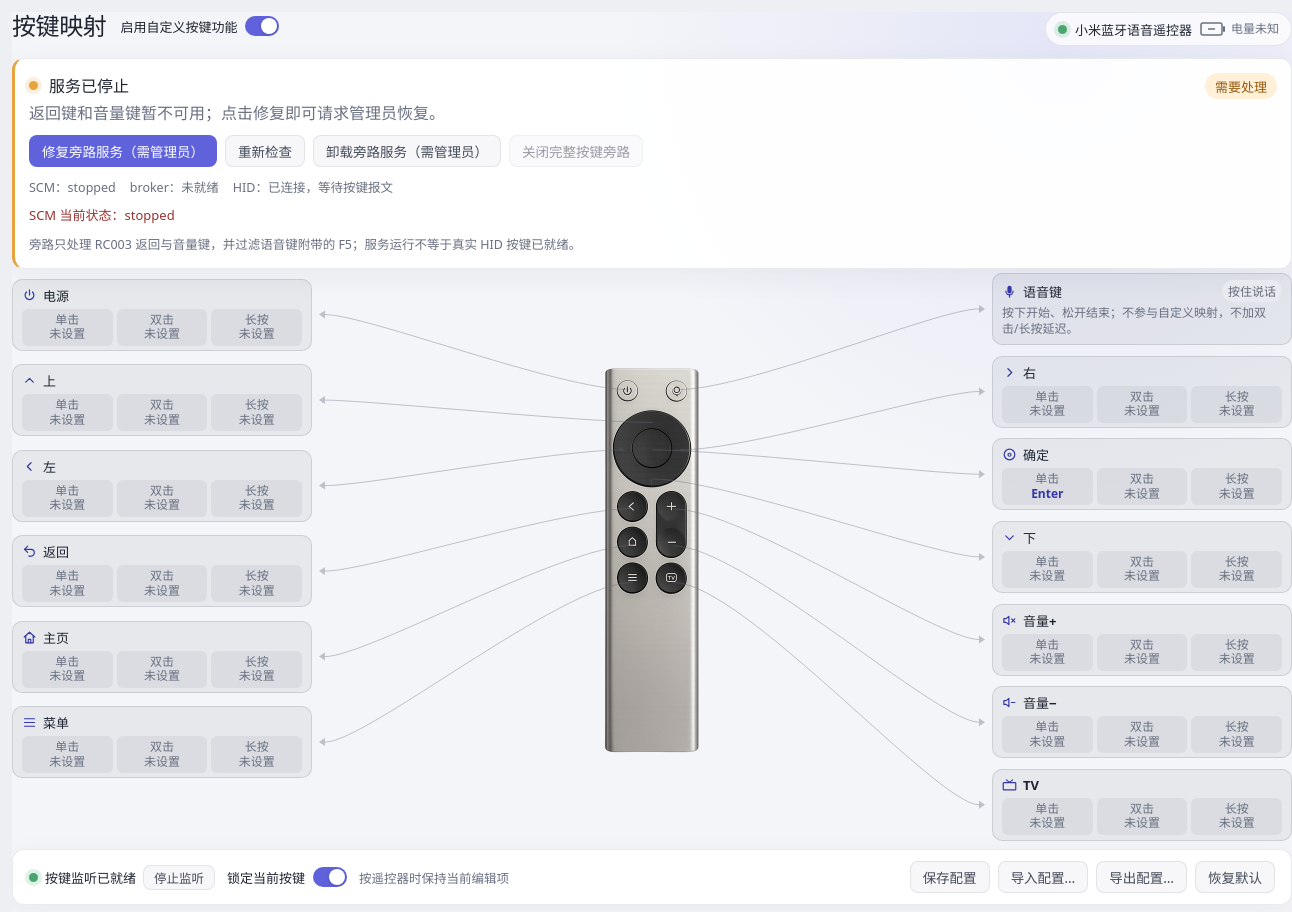
it: buttons mapping page › Stopped 状态提供有界修复动作，并显示 UAC 取消而不是假报成功
Expected: the element with class "hid-tap-controls" shows "服务已停止", [49,75,129,97]
Click the button "修复旁路服务（需管理员）" at (123, 151), box [29,135,217,167]
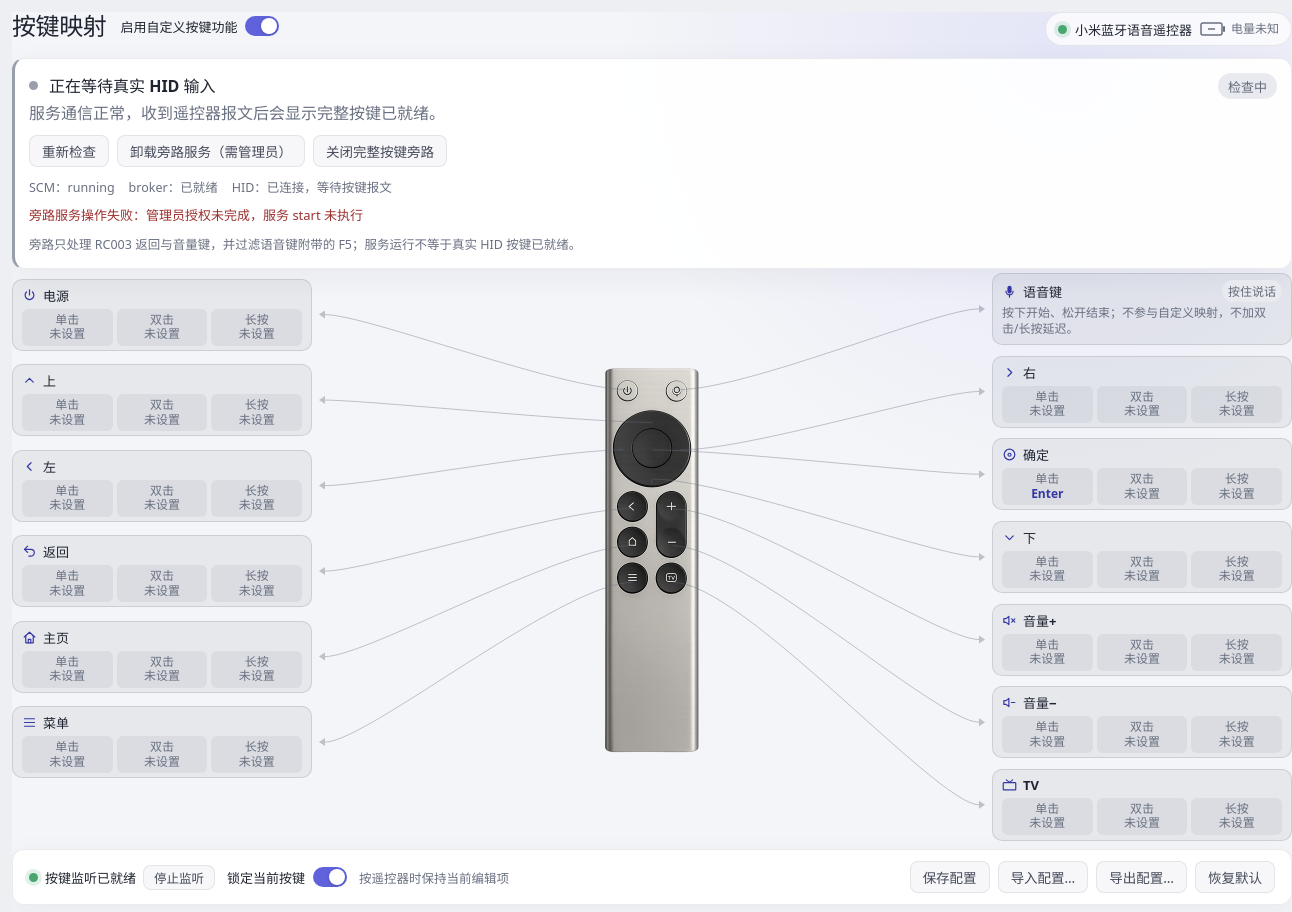
Result: the element with class "hid-tap-controls" shows "旁路服务操作失败" at [29,206,363,224]
